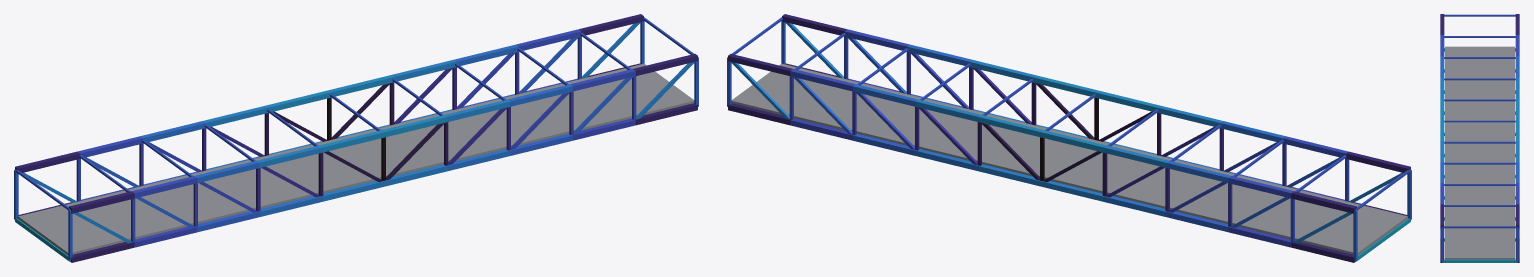
File: 20_1.5_10_HEA240.glb
The picture shows the model from 3 angles, left to right: view 1: azimuth 30°, elevation 25°; view 2: azimuth 150°, elevation 25°; view 3: azimuth 270°, elevation 25°; orthographic projection. The views are drawn at different scales.
Bounding box in the file's own units: 20.09 × 1.66 × 3.16.
